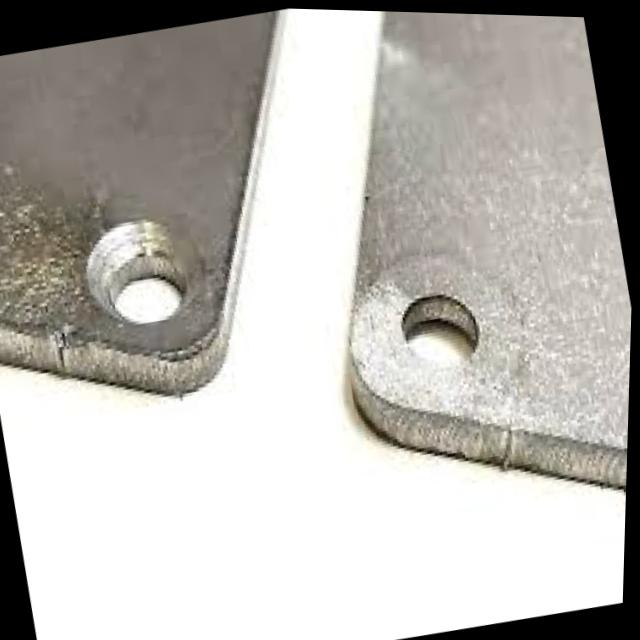holes: (78, 207, 194, 334), (396, 284, 485, 371)
